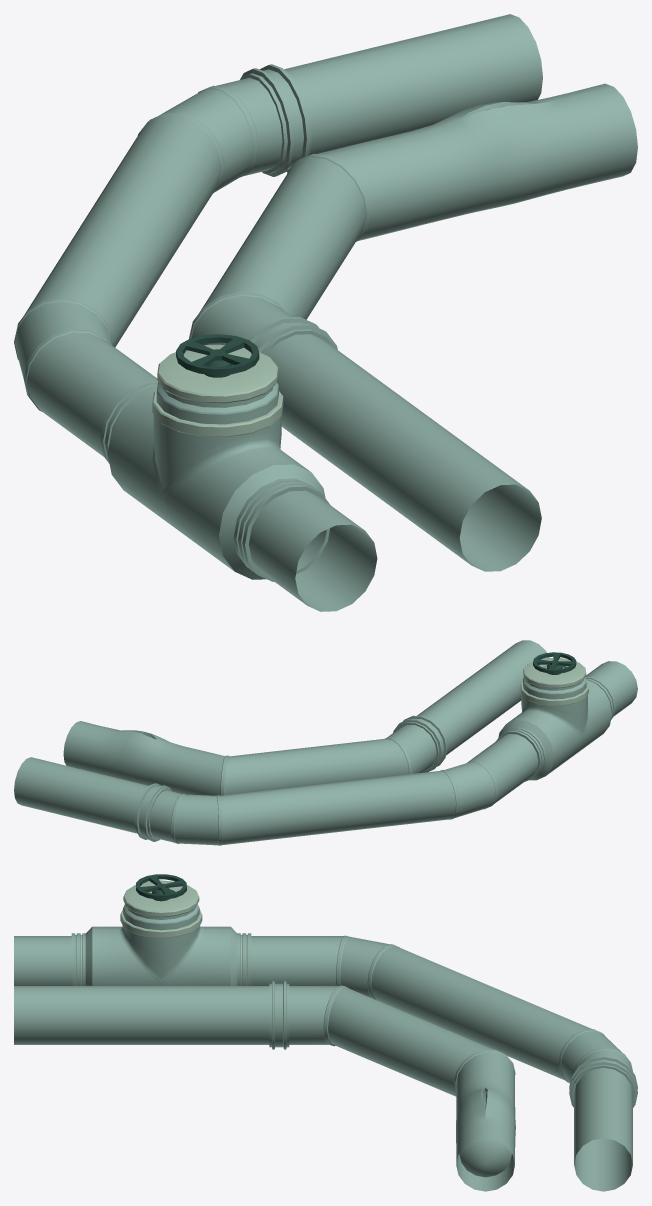
Rendered from PipeComplexLarge_B_06.fbx.
3 views of the same model, one above another, from view 1: azimuth 30°, elevation 25°; view 2: azimuth 150°, elevation 25°; view 3: azimuth 270°, elevation 25° (orthographic). The views are drawn at different scales.
Visible parts, largest first — view 1: PipeComplexLarge_B_06.001; view 2: PipeComplexLarge_B_06.001; view 3: PipeComplexLarge_B_06.001.
Boxes of the visible parts, left/top/right/bottom form: PipeComplexLarge_B_06.001: left=14, top=14, right=637, bottom=611; PipeComplexLarge_B_06.001: left=14, top=640, right=637, bottom=845; PipeComplexLarge_B_06.001: left=14, top=874, right=637, bottom=1191.
Bounding box in the file's own units: 1.74 × 0.4338 × 2.12.
